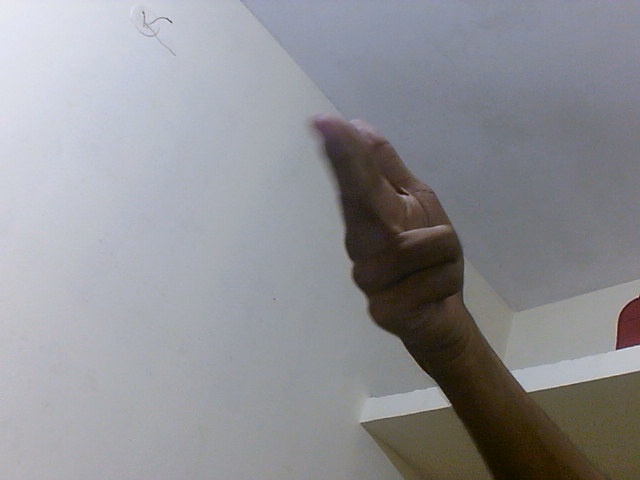hand: (309, 112, 479, 352)
